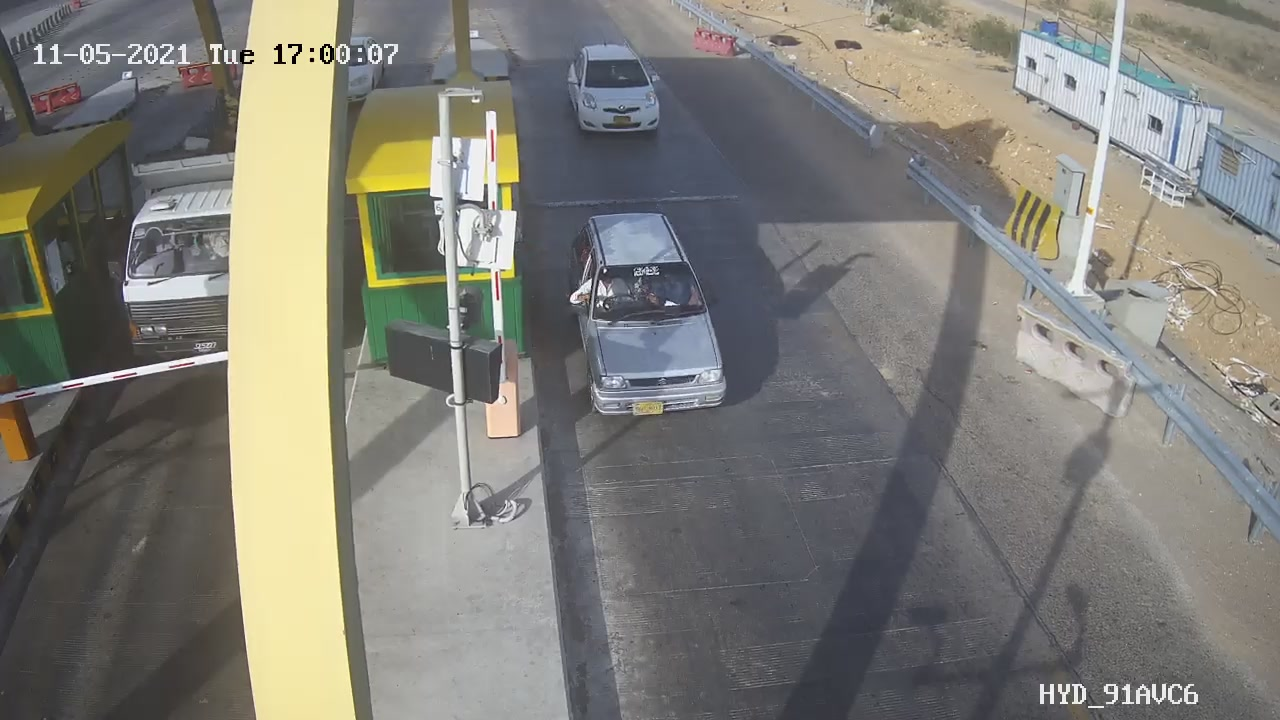F1: (555, 199, 746, 439), (557, 31, 676, 147)
